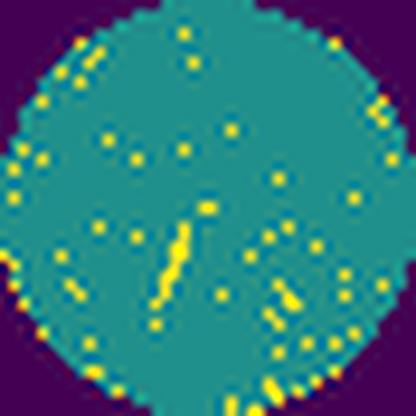Scratch: (145, 217, 196, 314)
